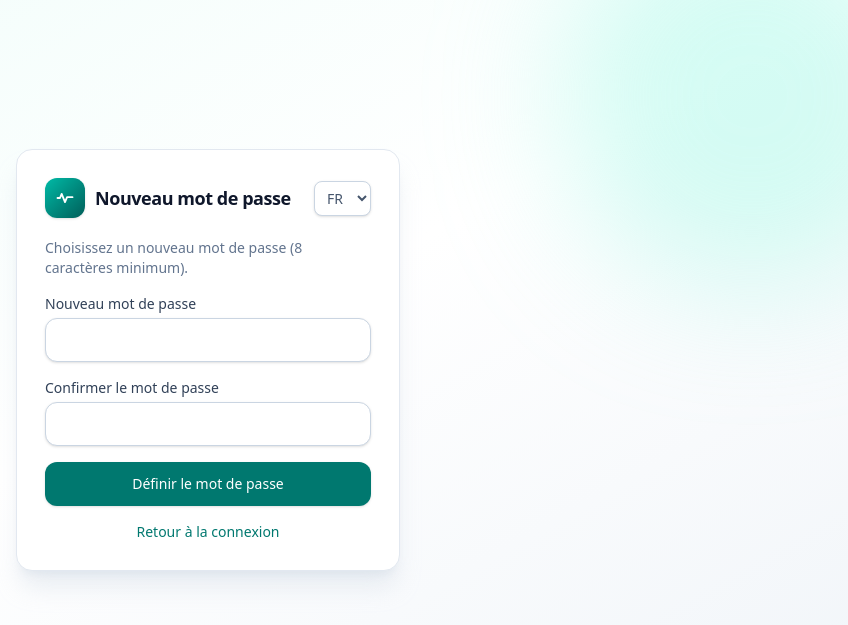
it: ResetPassword › refuse un mot de passe trop court
The image size is (848, 625).
Type "abc" into the password field labelled "Nouveau mot de passe" at [208, 340], box [45,318,371,362]
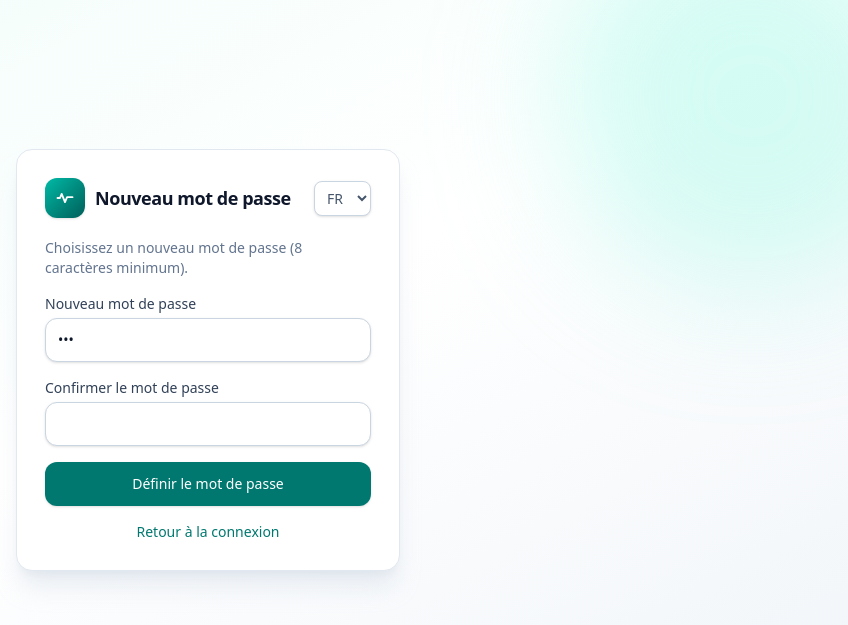
Type "abc" into the password field labelled "Confirmer le mot de passe" at [208, 424], box [45,402,371,446]
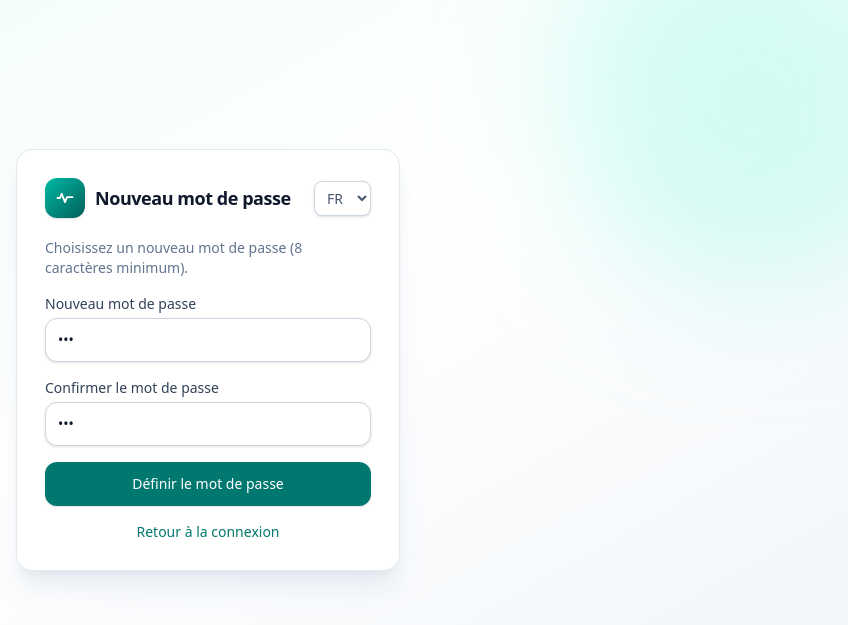
Click the button "Définir le mot de passe" at [208, 484], box [45,462,371,506]
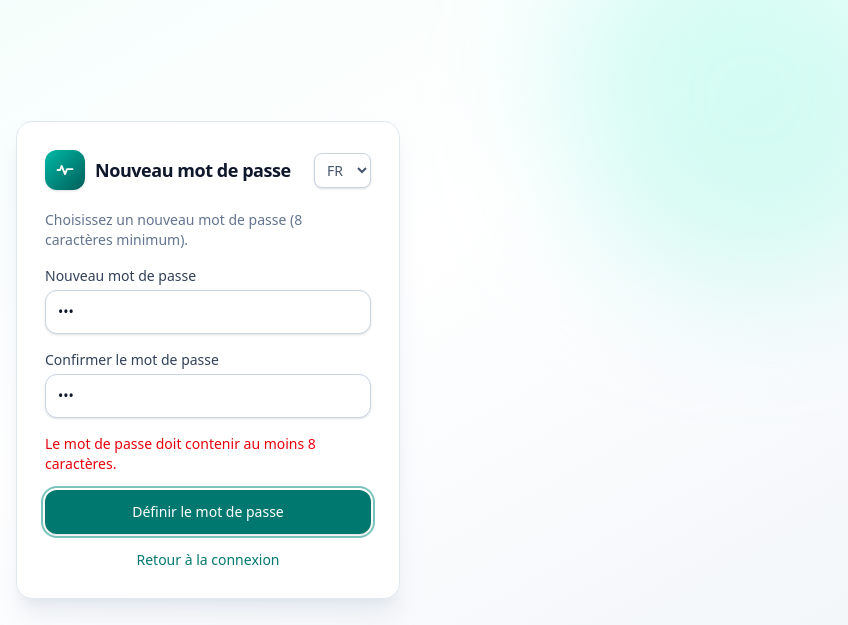
Check: the text "Le mot de passe doit contenir au moins 8 caractères." is shown, box [45,434,316,473]
